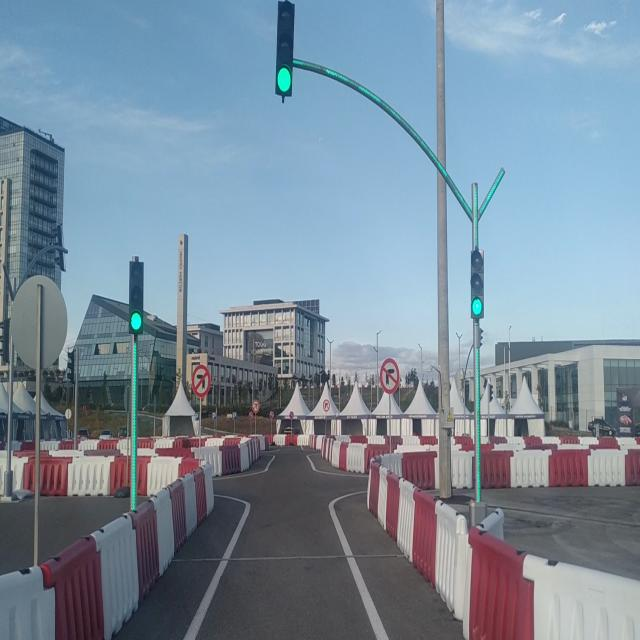forb_stopping: (270, 409, 275, 420), (289, 412, 294, 421), (249, 412, 254, 420)
